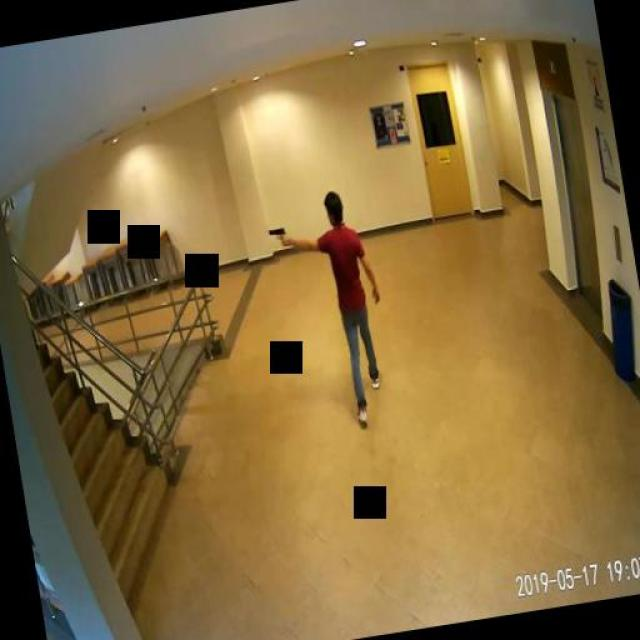gun: (265, 224, 284, 248)
